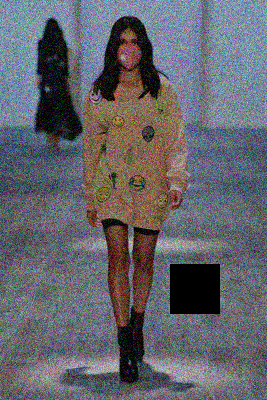with_mask: (116, 36, 144, 71)
